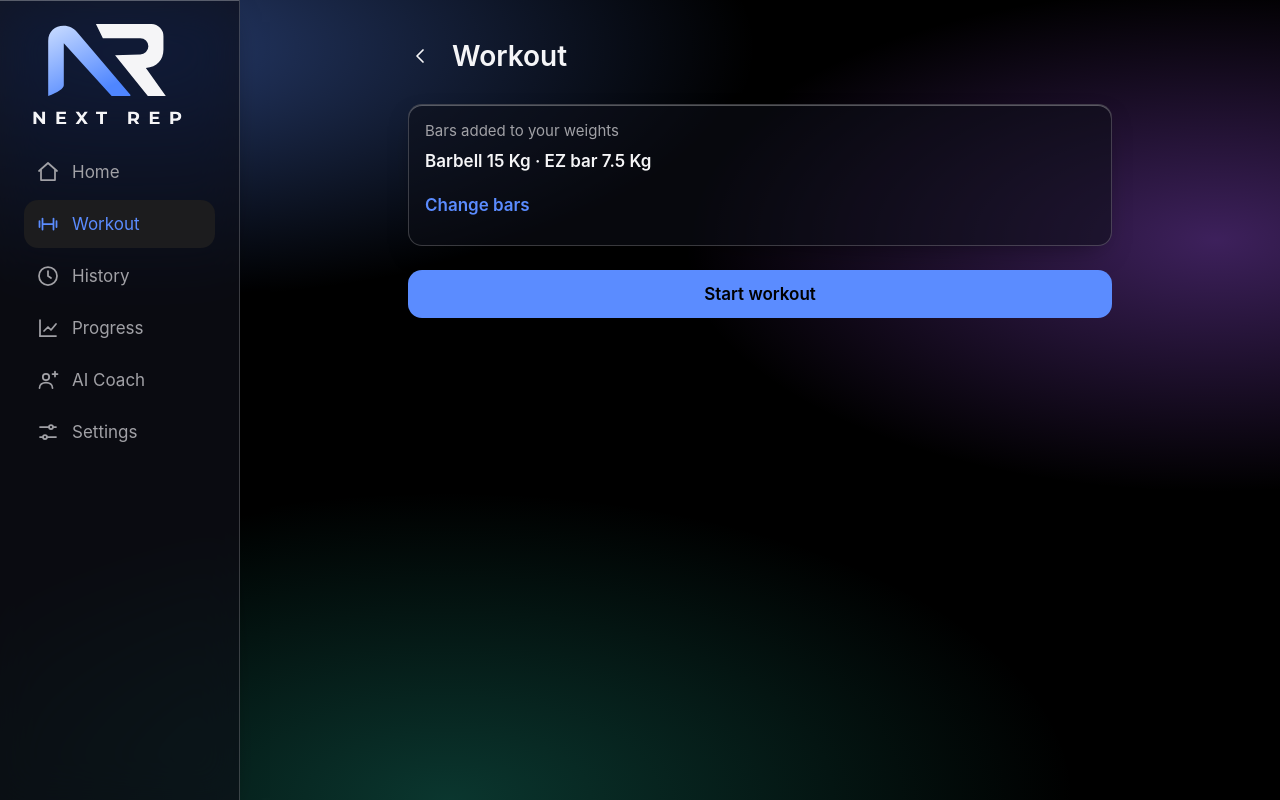
Test: ending a workout with no sets › a workout that is started and never ended does not reach the server either
The width and height of the screenshot is (1280, 800).
What coordinates should you click on to do the following:
click the button "Start workout"
I would click on:
 (760, 294)
Its box is [408,270,1112,318].
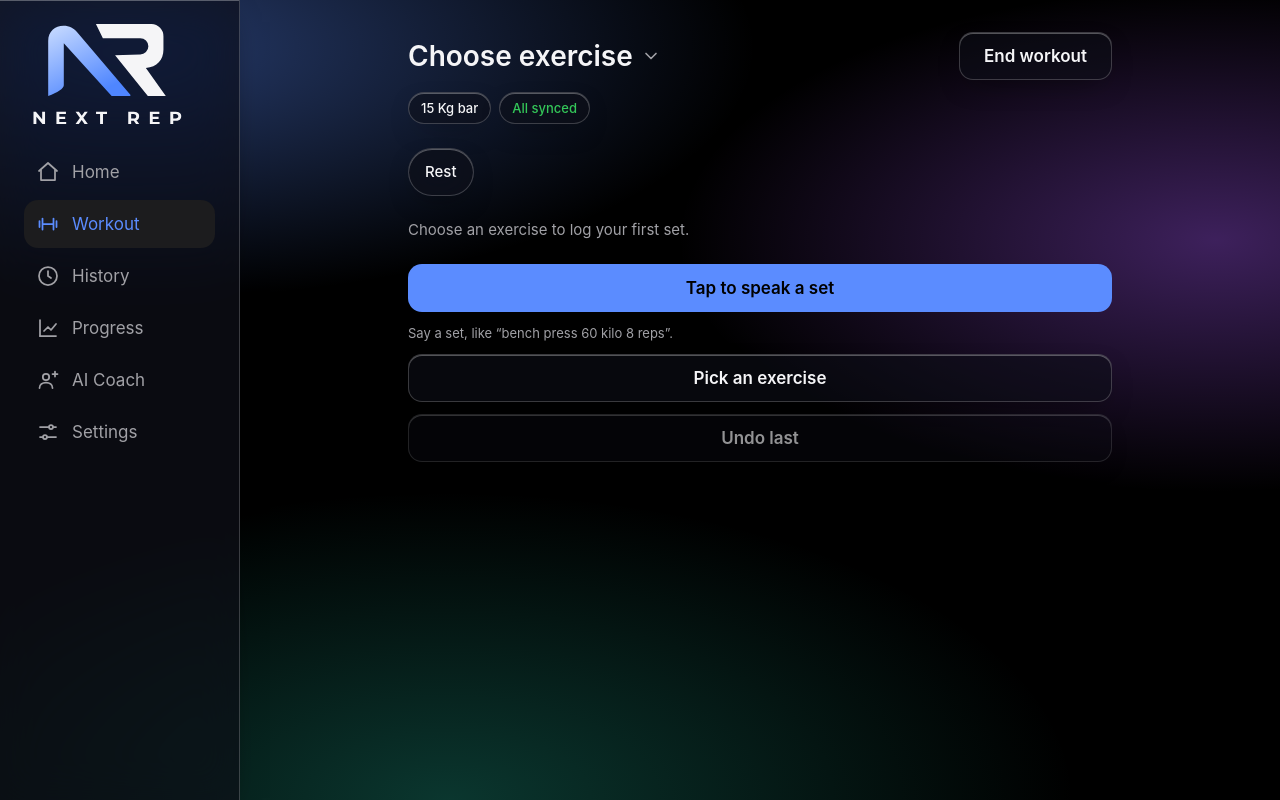
expect the button "End workout" is shown: met, box [959,32,1112,80]
